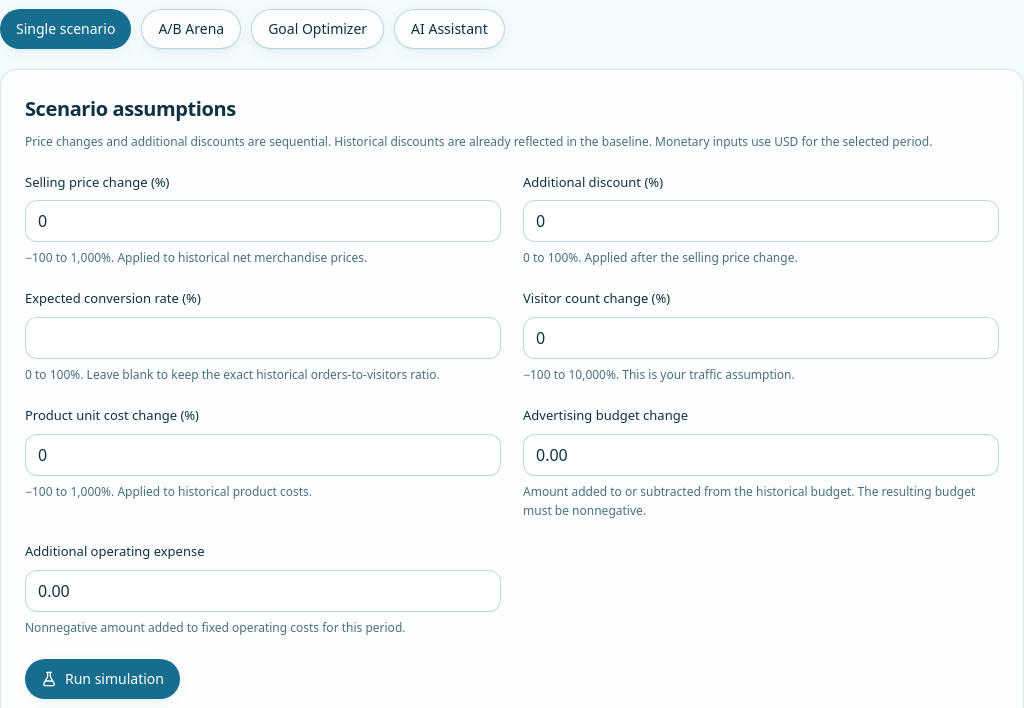
Test case: Simulation Lab form › blocks invalid values and prevents a run against an unloaded date selection
(page scrolled)
Expected: the button "Run simulation" is enabled, 25,659 -> 180,699
Type "101" into the field labelled "Expected conversion rate (%)" at (263, 338), box 25,317 -> 501,359
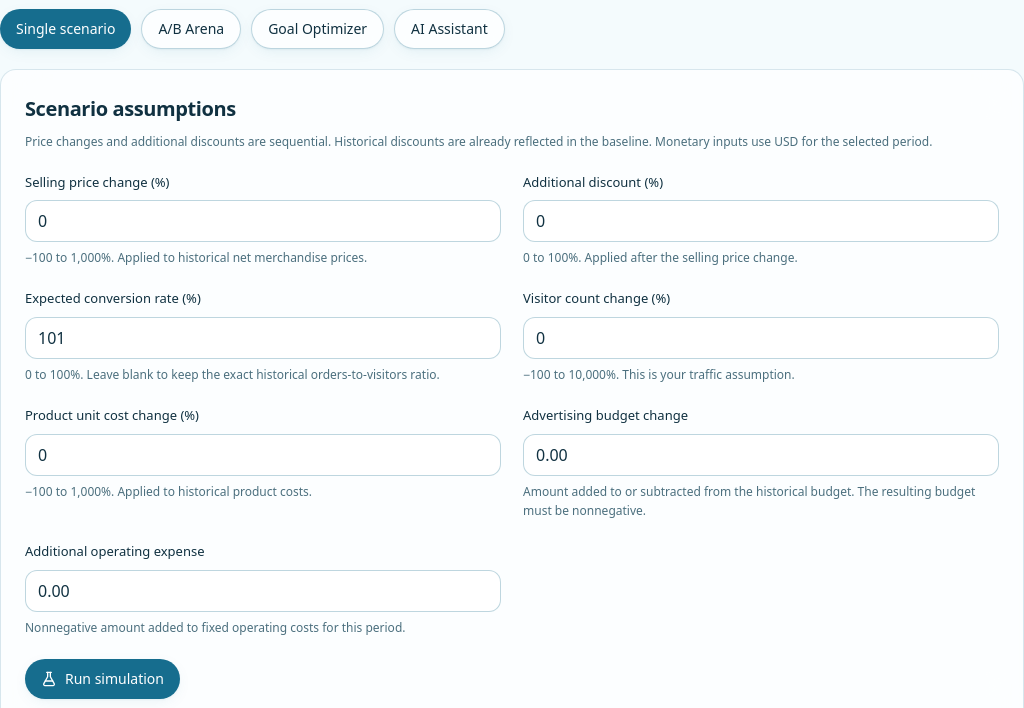
Click the button "Run simulation" at (102, 679), box 25,659 -> 180,699
(page scrolled)
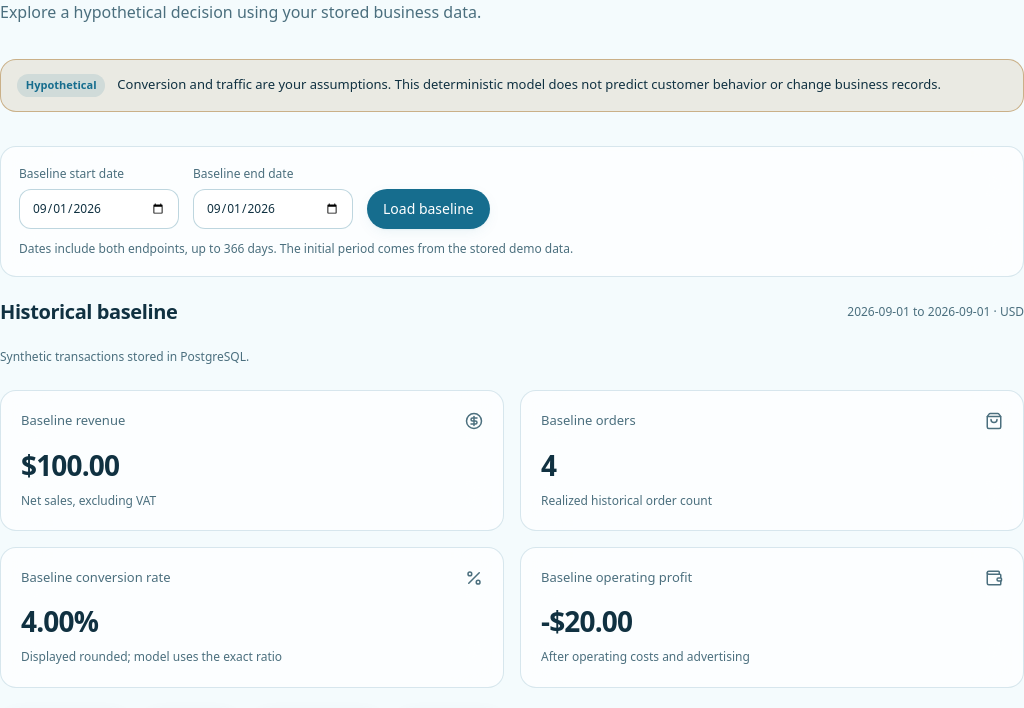
Type "2026-09-02" into the date field labelled "Baseline end date" at (273, 209), box 193,189 -> 353,229
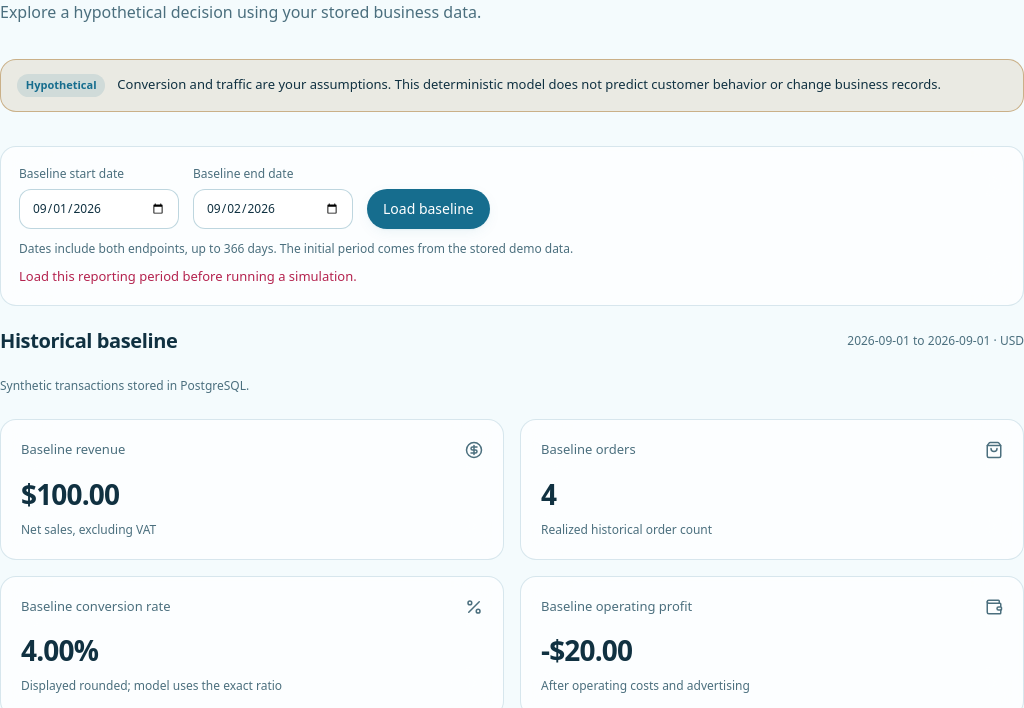
Expected: the text "Load this reporting period before running a simulation." is shown, 19,267 -> 357,285
